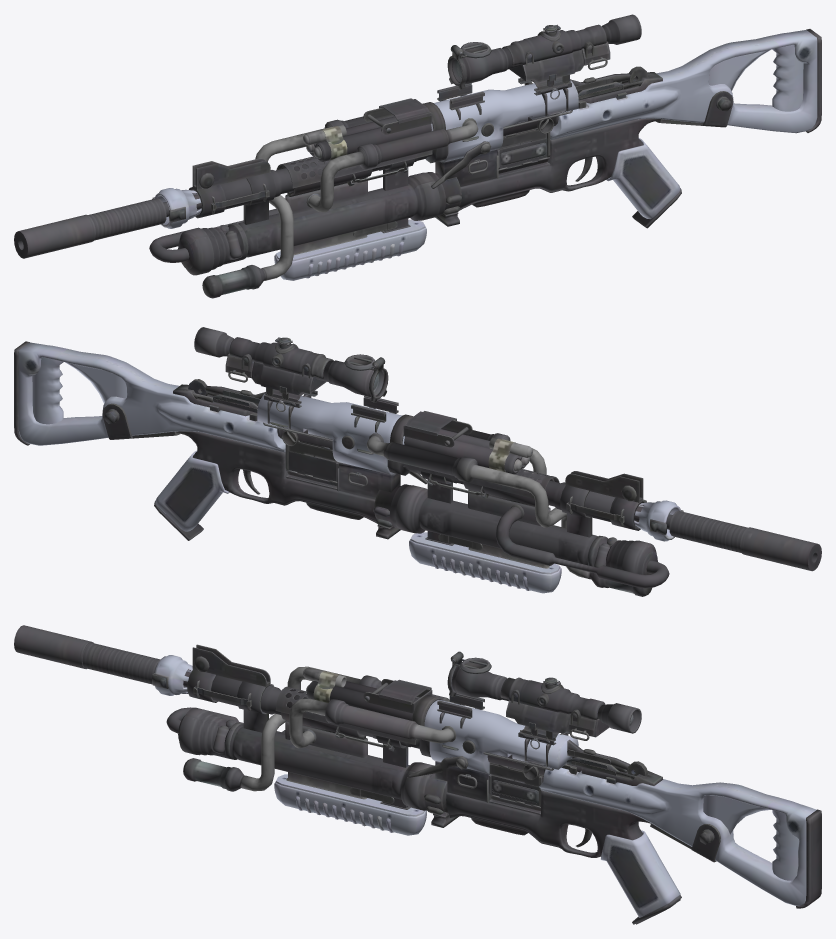
The model's file is rail.glb.
The picture shows the model from 3 angles, top to bottom: view 1: azimuth 30°, elevation 25°; view 2: azimuth 150°, elevation 25°; view 3: azimuth 330°, elevation 25°; orthographic projection.
Parts seen in each view (by area): view 1: flaster_low_sniperRifle_0; view 2: flaster_low_sniperRifle_0; view 3: flaster_low_sniperRifle_0.
Boxes of the visible parts, <box> form: flaster_low_sniperRifle_0: <box>14,14,821,298</box>; flaster_low_sniperRifle_0: <box>14,327,821,596</box>; flaster_low_sniperRifle_0: <box>14,625,821,924</box>.
Bounding box in the file's own units: 970 × 258 × 94.12.
1 material, 1 textured.
